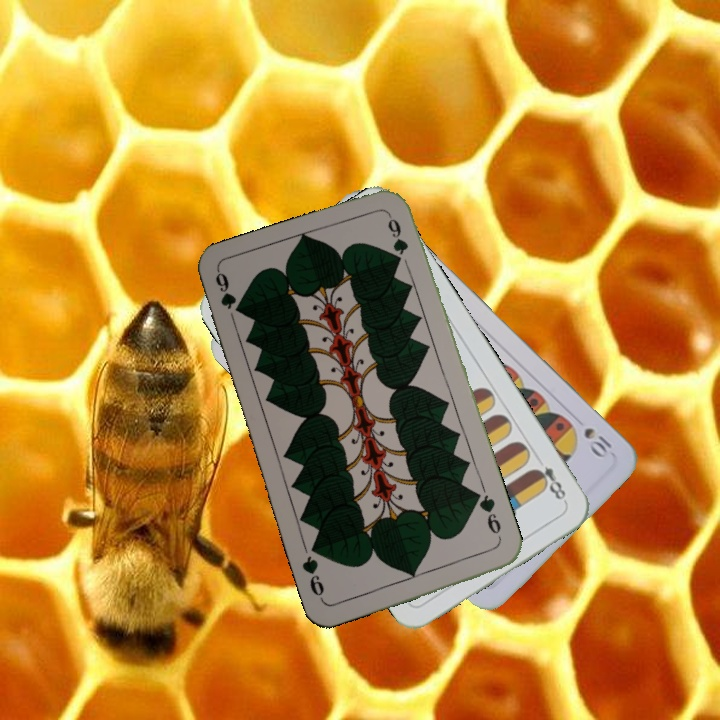E8: (529, 461, 570, 506)
G9: (472, 489, 505, 545), (211, 268, 244, 317)
S10: (579, 423, 615, 461)
